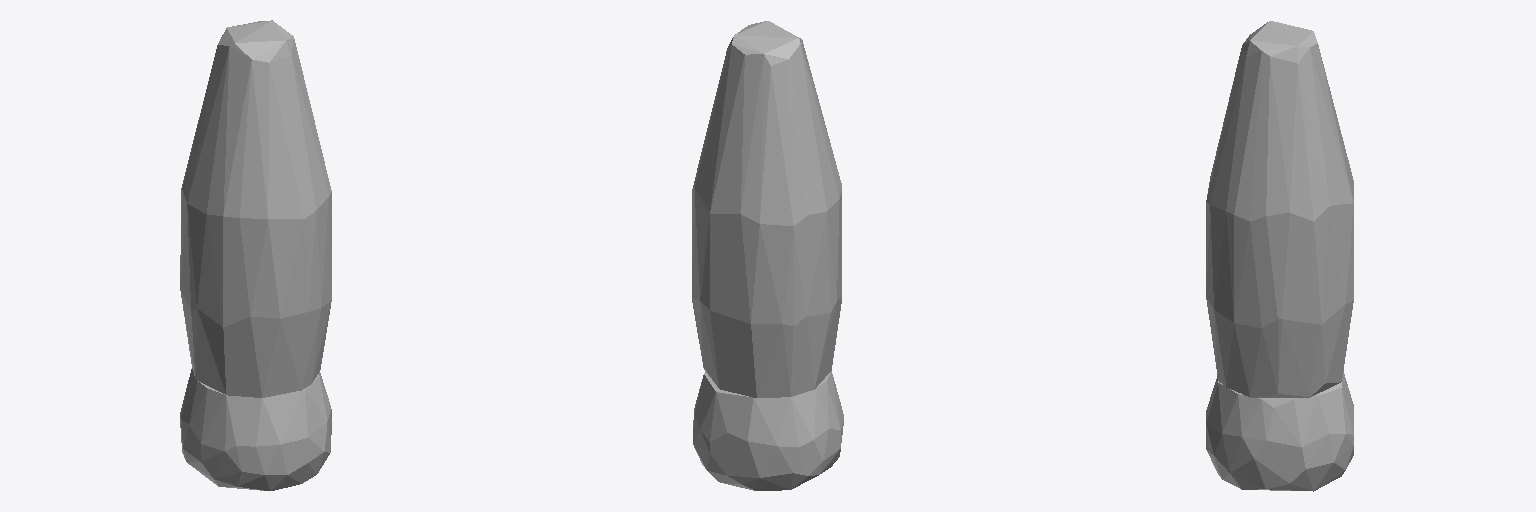
URDF robot description (root):
<robot name="root">
  <link name="link_other~coke_bottle_convex_piece_0">
    <inertial>
      <origin rpy="0 0 0" xyz="0 0 0"/>
      <mass value="1.81E-01"/>
      <inertia ixx="4.36E-04" ixy="-4.41E-08" ixz="1.53E-07" iyy="4.36E-04" iyz="2.12E-07" izz="5.07E-05"/>
    </inertial>
    <visual>
      <origin rpy="0 0 0" xyz="0 0 0"/>
      <geometry>
        <mesh filename="other~coke_bottle_convex_piece_0.obj" scale="1.0000E+00 1.0000E+00 1.0000E+00"/>
      </geometry>
      <material name="">
        <color rgba="7.50E-01 7.50E-01 7.50E-01 1"/>
      </material>
    </visual>
    <collision>
      <origin rpy="0 0 0" xyz="0 0 0"/>
      <geometry>
        <mesh filename="other~coke_bottle_convex_piece_0.obj" scale="1.0000E+00 1.0000E+00 1.0000E+00"/>
      </geometry>
    </collision>
  </link>
  <link name="link_other~coke_bottle_convex_piece_1">
    <inertial>
      <origin rpy="0 0 0" xyz="0 0 0"/>
      <mass value="5.49E-01"/>
      <inertia ixx="8.97E-04" ixy="-3.68E-07" ixz="4.09E-06" iyy="8.97E-04" iyz="1.85E-06" izz="1.41E-04"/>
    </inertial>
    <visual>
      <origin rpy="0 0 0" xyz="0 0 0"/>
      <geometry>
        <mesh filename="other~coke_bottle_convex_piece_1.obj" scale="1.0000E+00 1.0000E+00 1.0000E+00"/>
      </geometry>
      <material name="">
        <color rgba="7.50E-01 7.50E-01 7.50E-01 1"/>
      </material>
    </visual>
    <collision>
      <origin rpy="0 0 0" xyz="0 0 0"/>
      <geometry>
        <mesh filename="other~coke_bottle_convex_piece_1.obj" scale="1.0000E+00 1.0000E+00 1.0000E+00"/>
      </geometry>
    </collision>
  </link>
  <joint name="link_other~coke_bottle_convex_piece_1_joint" type="fixed">
    <origin rpy="0 0 0" xyz="0 0 0"/>
    <parent link="link_other~coke_bottle_convex_piece_0"/>
    <child link="link_other~coke_bottle_convex_piece_1"/>
  </joint>
</robot>

--- Facts derived from the render (not from the file) ---
The picture shows the robot from 3 angles, left to right: view 1: azimuth 30°, elevation 25°; view 2: azimuth 150°, elevation 25°; view 3: azimuth 270°, elevation 25°; orthographic projection.
Model root with 2 links and 1 joints (1 fixed), rooted at link_other~coke_bottle_convex_piece_0, posed all joints at 0.
Visible links, largest first — view 1: link_other~coke_bottle_convex_piece_1, link_other~coke_bottle_convex_piece_0; view 2: link_other~coke_bottle_convex_piece_1, link_other~coke_bottle_convex_piece_0; view 3: link_other~coke_bottle_convex_piece_1, link_other~coke_bottle_convex_piece_0.
Boxes of the visible links, bbox=[...] form: link_other~coke_bottle_convex_piece_1: bbox=[180, 20, 331, 397]; link_other~coke_bottle_convex_piece_0: bbox=[180, 369, 331, 490]; link_other~coke_bottle_convex_piece_1: bbox=[692, 21, 841, 397]; link_other~coke_bottle_convex_piece_0: bbox=[693, 371, 843, 490]; link_other~coke_bottle_convex_piece_1: bbox=[1206, 21, 1353, 397]; link_other~coke_bottle_convex_piece_0: bbox=[1206, 371, 1353, 491].
Bounding box of the posed robot: 0.0498 × 0.0485 × 0.1574 m (x, y, z).
Meshes: 2 distinct files referenced, 2 mesh visuals loaded (2 OBJ).
